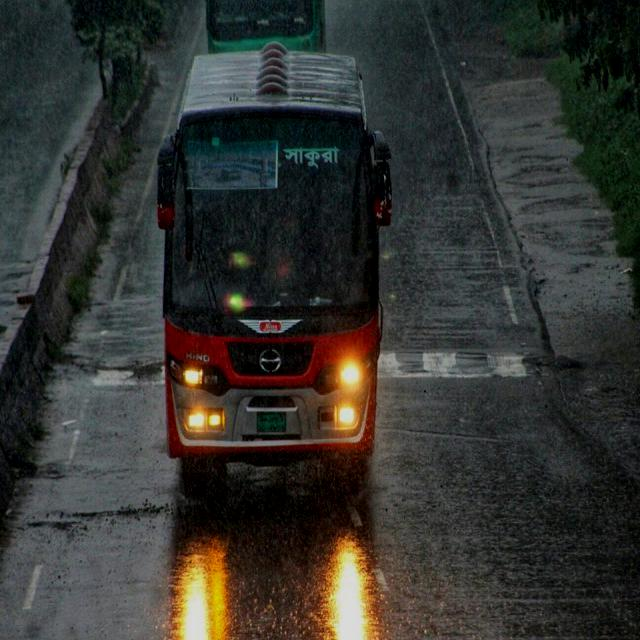bus: (158, 40, 394, 458)
